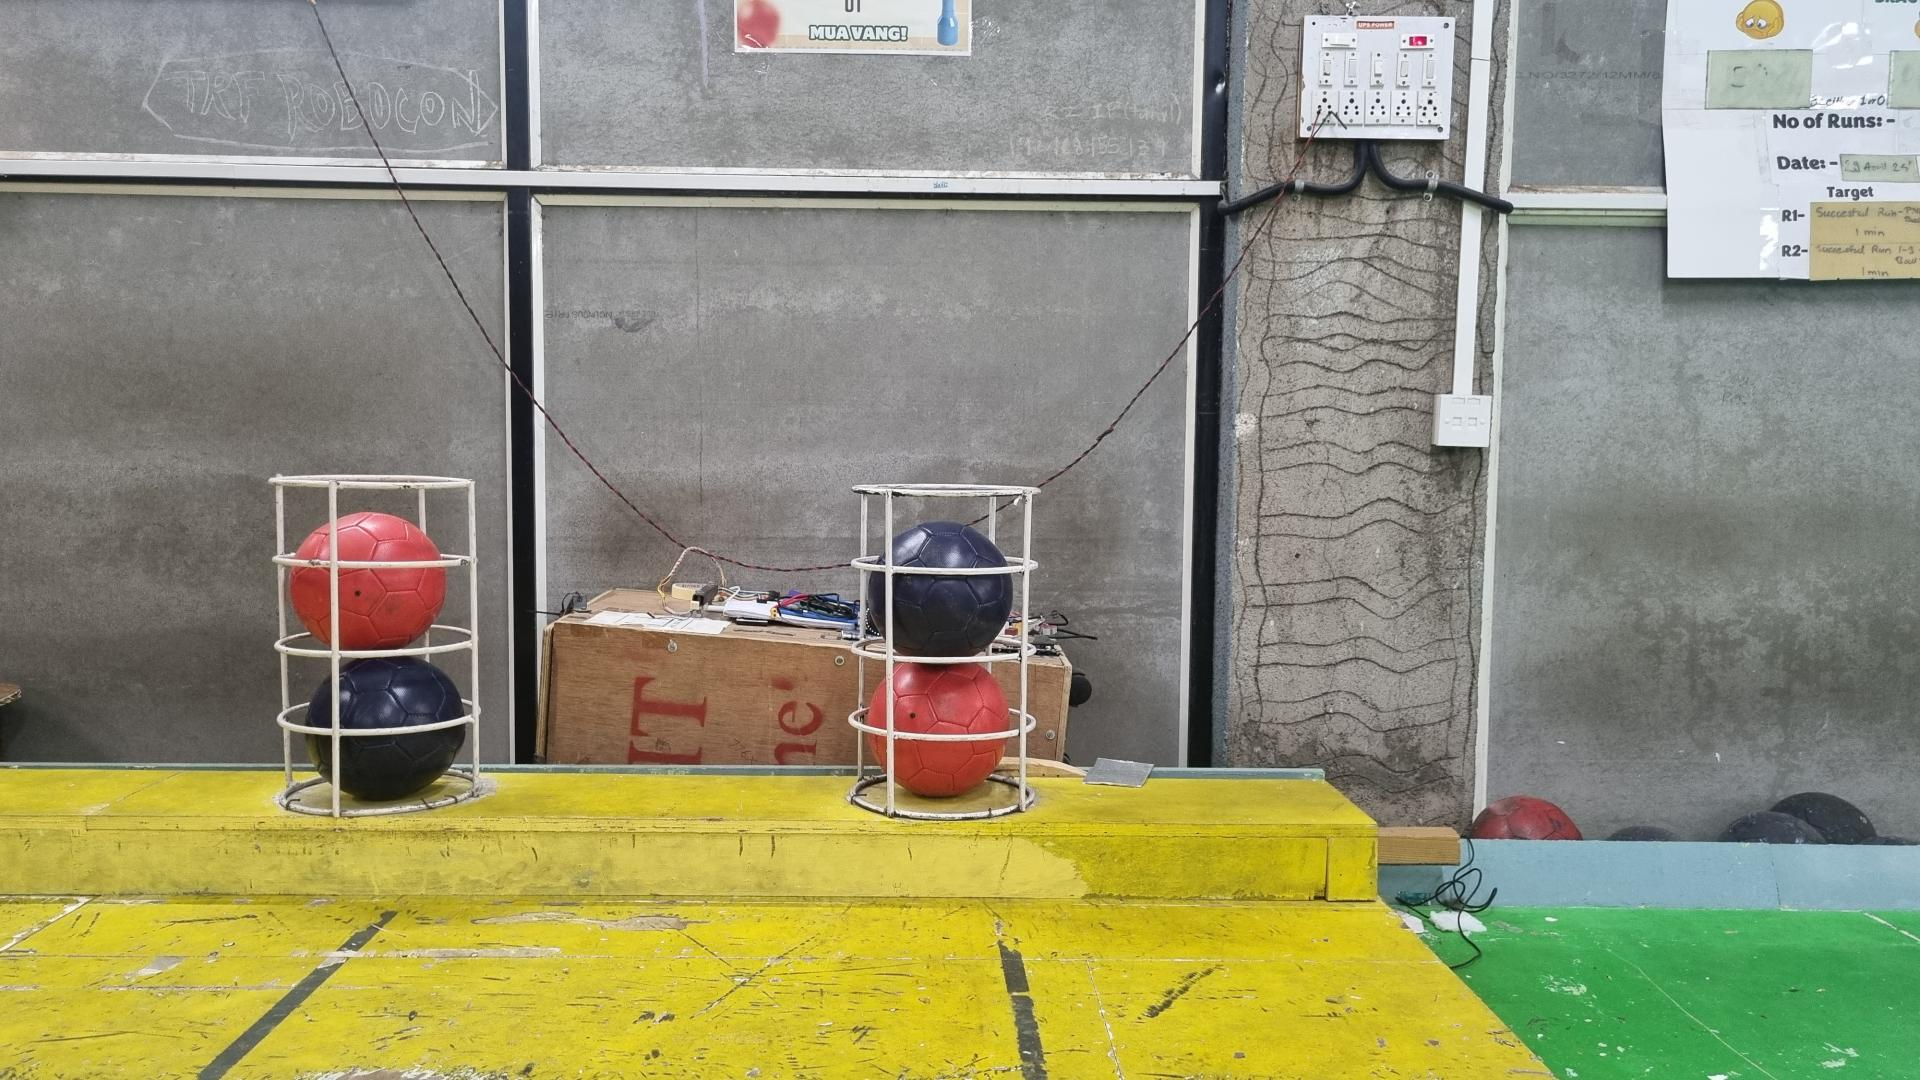dhoka: (303, 655, 465, 802), (868, 522, 1014, 657)
laale: (287, 512, 450, 654), (865, 663, 1011, 798)
